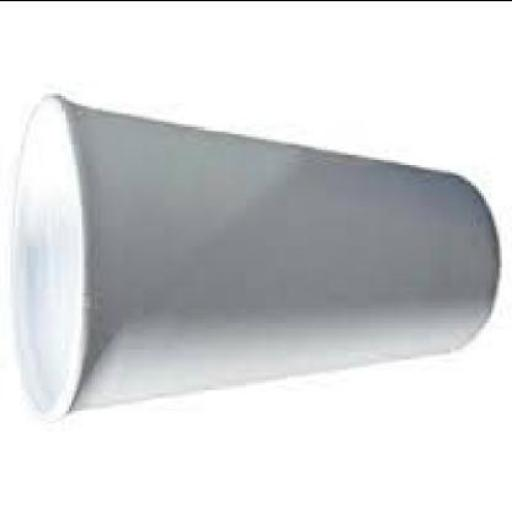paper: (8, 90, 502, 420)
